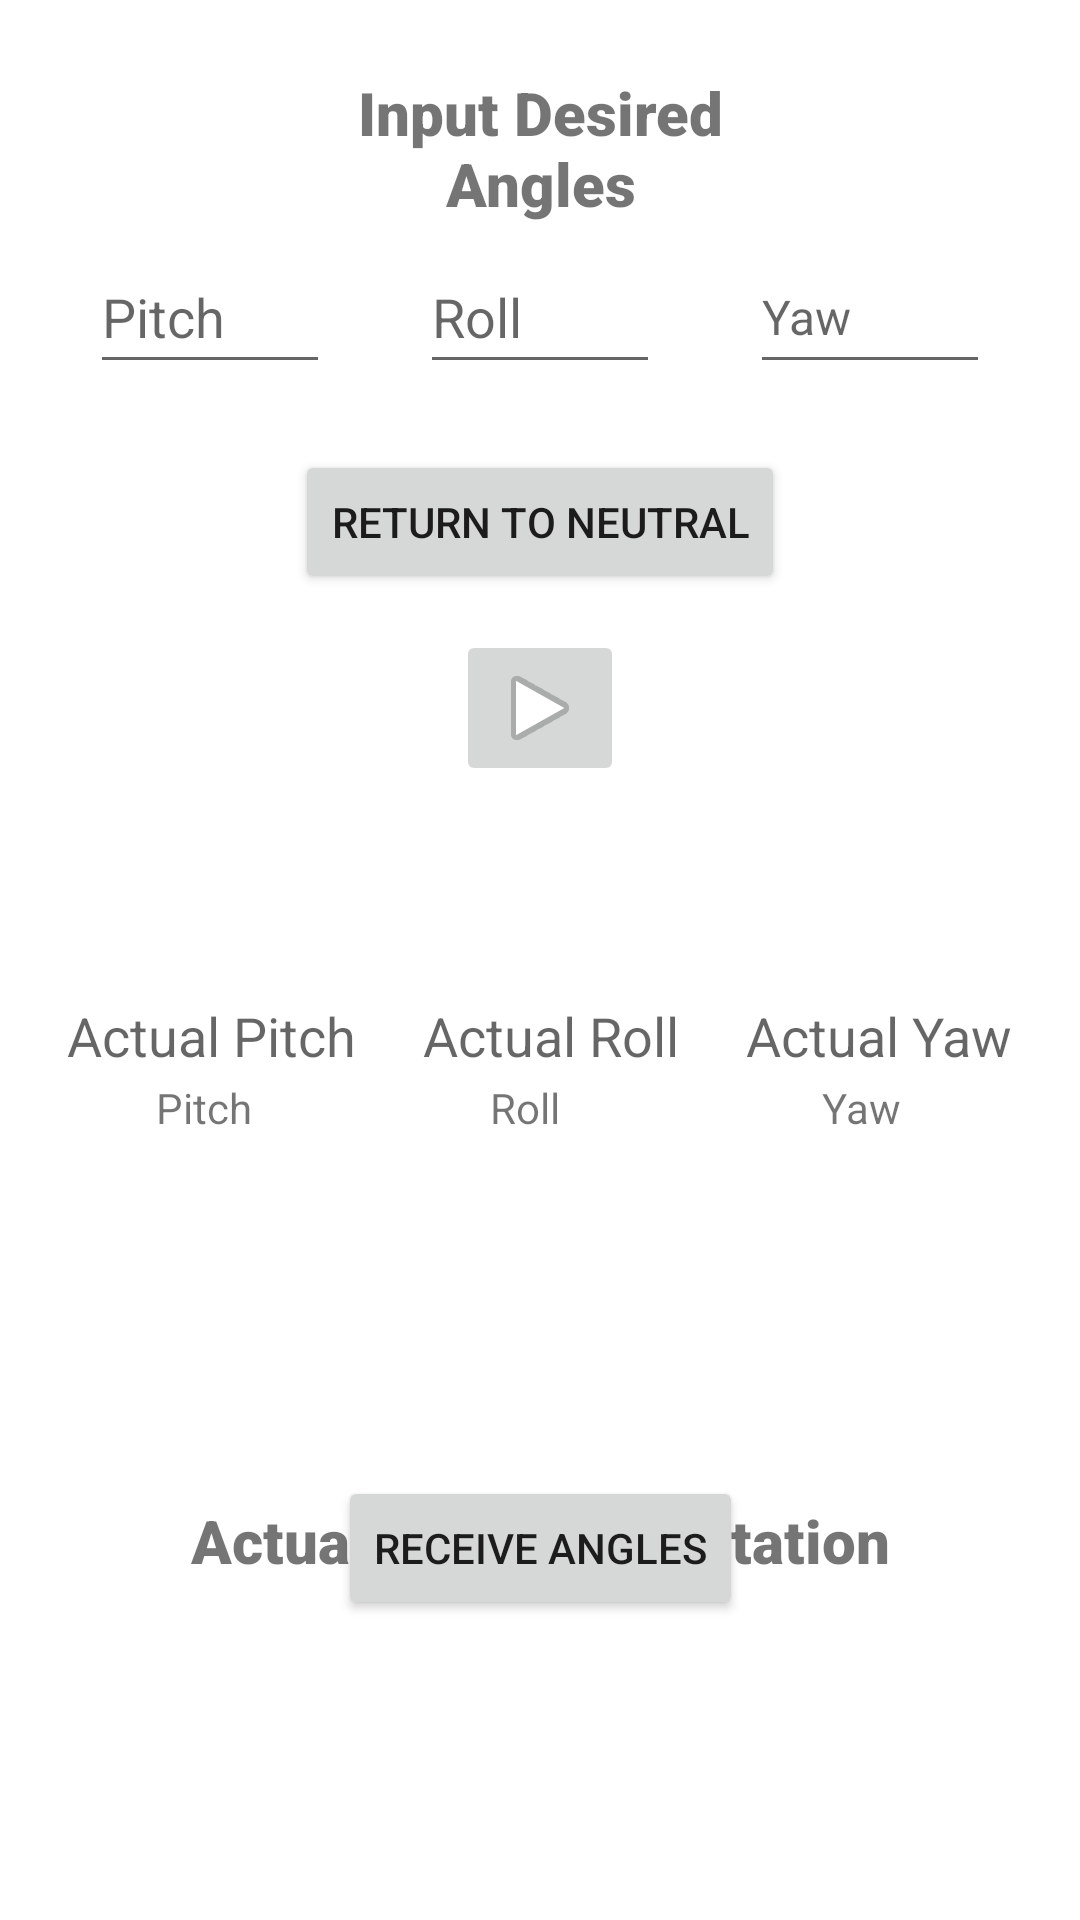

Screen size 1080*1920. Icon name, then its box in pixels as (x1, y1, x2, y2):
play: (468, 648, 612, 768)
